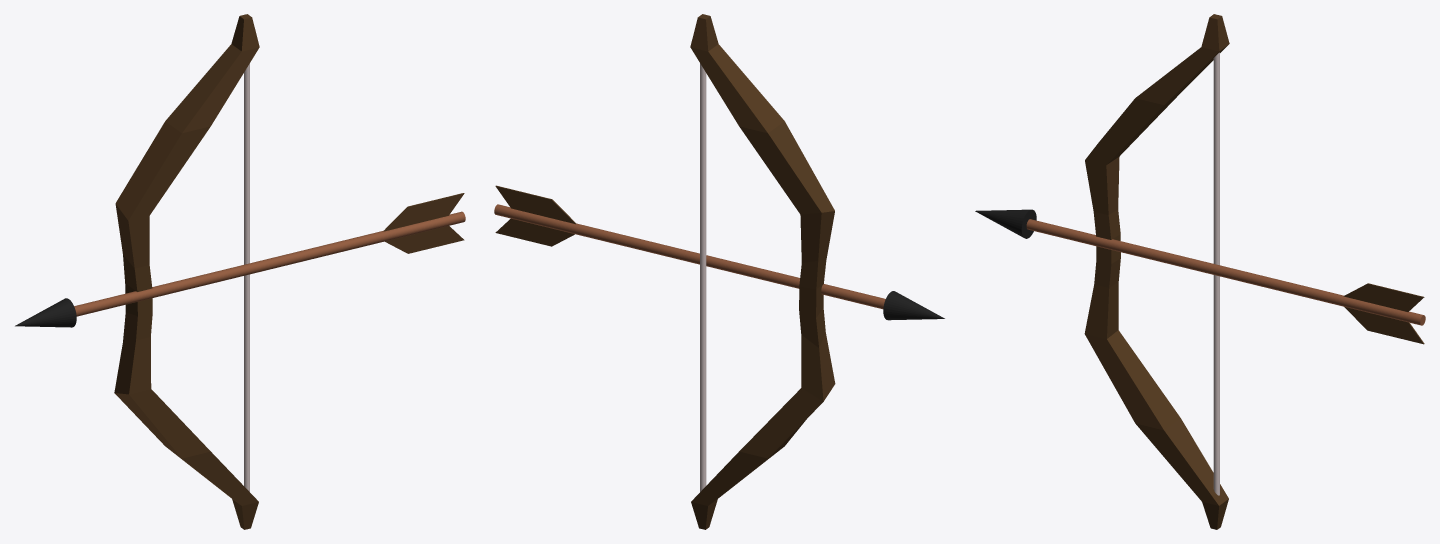
File: Arrow.fbx
3 renders of one model, left to right at view 1: azimuth 30°, elevation 25°; view 2: azimuth 150°, elevation 25°; view 3: azimuth 330°, elevation 25°, orthographic.
Visible parts, largest first — view 1: Cube, Cylinder.001, Cylinder, Cube.001, Cube.002, Cone; view 2: Cube, Cylinder.001, Cylinder, Cube.001, Cube.002, Cone; view 3: Cube, Cylinder.001, Cylinder, Cube.001, Cube.002, Cone.
Boxes of the visible parts, x1,y1,x2,y2 form: Cube: (114,14,259,529); Cylinder.001: (74,211,465,316); Cylinder: (244,63,249,491); Cube.001: (383,193,464,231); Cube.002: (385,226,464,253); Cone: (15,298,76,327); Cube: (690,14,835,529); Cylinder.001: (494,204,885,309); Cylinder: (700,63,706,491); Cube.001: (495,185,576,224); Cube.002: (495,218,574,246); Cone: (883,291,944,320); Cube: (1084,14,1229,529); Cylinder.001: (1026,219,1425,325); Cylinder: (1213,52,1219,495); Cube.001: (1343,283,1424,311); Cube.002: (1344,307,1424,344); Cone: (975,209,1036,238).
Bounding box in the file's own units: 489 × 531 × 39.22.
